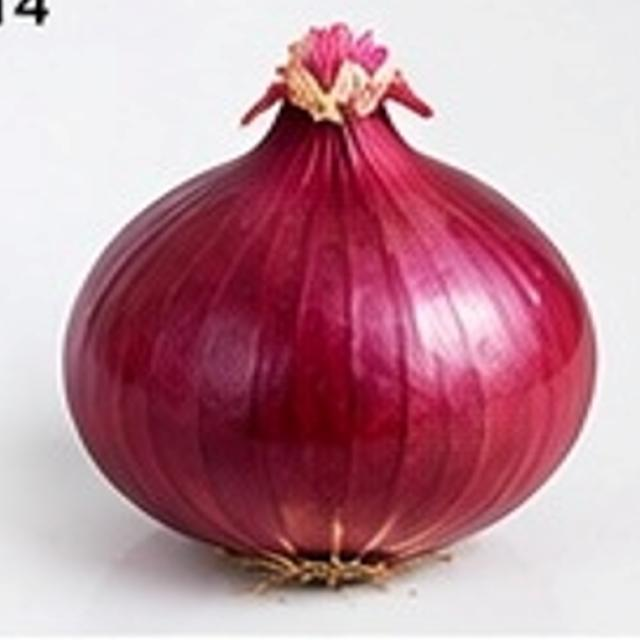healthy: (67, 25, 593, 584)
mechanical_damage: (61, 26, 628, 606)
